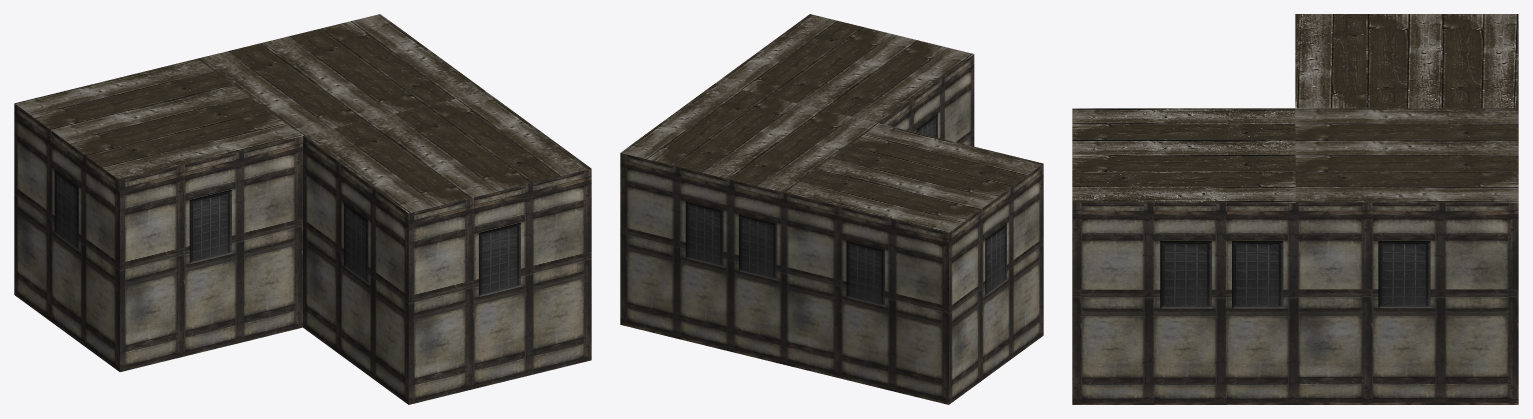
Rendered from HousePart02.FBX.
3 renders of one model, left to right at view 1: azimuth 30°, elevation 25°; view 2: azimuth 150°, elevation 25°; view 3: azimuth 270°, elevation 25°, orthographic. The views are drawn at different scales.
Parts seen in each view (by area): view 1: HousePart02; view 2: HousePart02; view 3: HousePart02.
Part boxes in pixels (left/top/right/bottom): HousePart02: left=14, top=14, right=591, bottom=404; HousePart02: left=620, top=14, right=1043, bottom=404; HousePart02: left=1072, top=14, right=1518, bottom=404.
Size of the model in its own units: 973 by 486 by 973.
